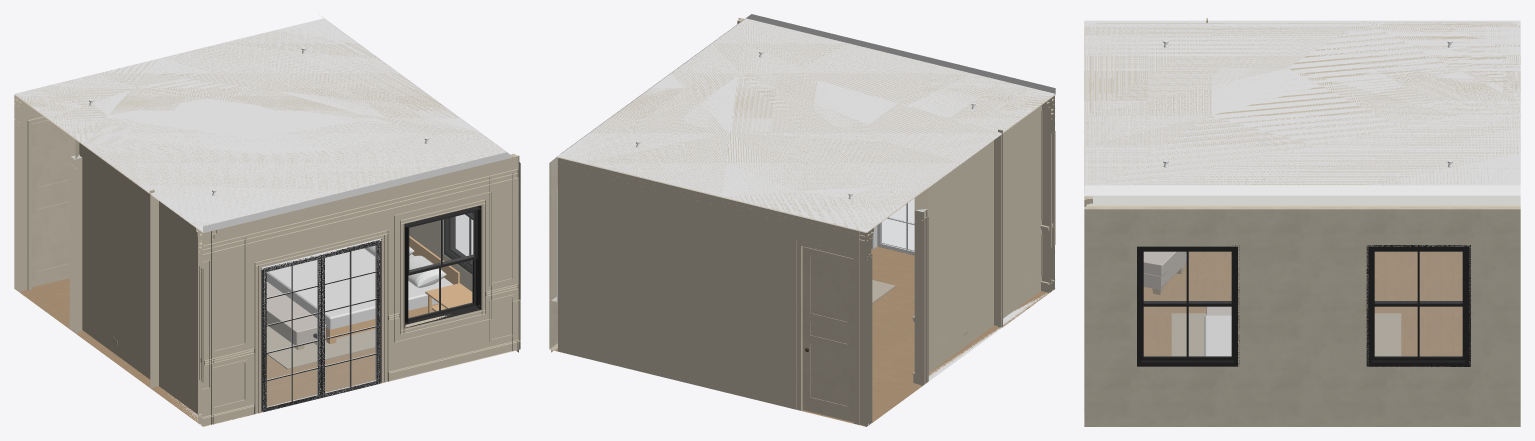
File: primary-bedroom-014505c3209c.glb
The picture shows the model from 3 angles, left to right: view 1: azimuth 30°, elevation 25°; view 2: azimuth 150°, elevation 25°; view 3: azimuth 270°, elevation 25°; orthographic projection. The views are drawn at different scales.
Visible parts, largest first — view 1: primary-bedroom-9d91b47435c6fb33, primary-bedroom-b0ade14315e4f1c3, primary-bedroom-e8793759323e04f0, primary-bedroom-0987656e6ddb83c1, primary-bedroom-fc6585fecfaf7ec3, primary-bedroom-e1735639a83d20d7, primary-bedroom-1e1f2f1a00880bfa, primary-bedroom-c791a0f218fead78, primary-bedroom-b7a870a0f6b43c8c, primary-bedroom-2575515a05775d9e, primary-bedroom-b5339e4b2b15762b, primary-bedroom-21ac2ed1b4475155 (+17 smaller); view 2: primary-bedroom-9d91b47435c6fb33, primary-bedroom-21ac2ed1b4475155, primary-bedroom-e8793759323e04f0, primary-bedroom-fc6585fecfaf7ec3, primary-bedroom-b7a870a0f6b43c8c, primary-bedroom-c791a0f218fead78, primary-bedroom-2575515a05775d9e, primary-bedroom-b0ade14315e4f1c3, primary-bedroom-9ecc0d558be1c706, primary-bedroom-0987656e6ddb83c1, primary-bedroom-780708765654f3c3, primary-bedroom-30f9d475162e2dd8 (+2 smaller); view 3: primary-bedroom-9d91b47435c6fb33, primary-bedroom-adb6f49a6d2cbec3, primary-bedroom-e8793759323e04f0, primary-bedroom-16d9002bc6318568, primary-bedroom-2575515a05775d9e, primary-bedroom-91f952a1d198b4a4, primary-bedroom-f5a37a5545b9d676, primary-bedroom-791abe15be22adf2, primary-bedroom-b0dbeb16b2b245ed, primary-bedroom-a05c251c2321b5d0, primary-bedroom-1e1f2f1a00880bfa, primary-bedroom-30f9d475162e2dd8.
Part boxes in pixels (x1,y1,x2,y2): primary-bedroom-9d91b47435c6fb33: [14, 18, 511, 232]; primary-bedroom-b0ade14315e4f1c3: [198, 155, 519, 426]; primary-bedroom-e8793759323e04f0: [17, 16, 511, 231]; primary-bedroom-0987656e6ddb83c1: [261, 238, 381, 412]; primary-bedroom-fc6585fecfaf7ec3: [75, 140, 158, 387]; primary-bedroom-e1735639a83d20d7: [404, 205, 481, 328]; primary-bedroom-1e1f2f1a00880bfa: [266, 236, 459, 344]; primary-bedroom-c791a0f218fead78: [151, 194, 211, 425]; primary-bedroom-b7a870a0f6b43c8c: [32, 120, 75, 287]; primary-bedroom-2575515a05775d9e: [15, 278, 518, 426]; primary-bedroom-b5339e4b2b15762b: [202, 169, 518, 254]; primary-bedroom-21ac2ed1b4475155: [14, 95, 43, 291]; primary-bedroom-9d91b47435c6fb33: [557, 18, 1055, 232]; primary-bedroom-21ac2ed1b4475155: [558, 157, 871, 426]; primary-bedroom-e8793759323e04f0: [561, 14, 1055, 229]; primary-bedroom-fc6585fecfaf7ec3: [914, 134, 1002, 382]; primary-bedroom-b7a870a0f6b43c8c: [802, 246, 853, 422]; primary-bedroom-c791a0f218fead78: [994, 95, 1054, 327]; primary-bedroom-2575515a05775d9e: [551, 246, 1053, 426]; primary-bedroom-b0ade14315e4f1c3: [738, 17, 1054, 292]; primary-bedroom-9ecc0d558be1c706: [914, 209, 927, 384]; primary-bedroom-0987656e6ddb83c1: [872, 199, 914, 255]; primary-bedroom-780708765654f3c3: [799, 244, 854, 423]; primary-bedroom-30f9d475162e2dd8: [550, 158, 556, 300]; primary-bedroom-9d91b47435c6fb33: [1084, 20, 1520, 195]; primary-bedroom-adb6f49a6d2cbec3: [1084, 207, 1520, 367]; primary-bedroom-e8793759323e04f0: [1084, 21, 1520, 194]; primary-bedroom-16d9002bc6318568: [1086, 367, 1520, 424]; primary-bedroom-2575515a05775d9e: [1084, 251, 1520, 426]; primary-bedroom-91f952a1d198b4a4: [1366, 245, 1470, 366]; primary-bedroom-f5a37a5545b9d676: [1137, 245, 1239, 366]; primary-bedroom-791abe15be22adf2: [1084, 195, 1520, 205]; primary-bedroom-b0dbeb16b2b245ed: [1171, 313, 1401, 356]; primary-bedroom-a05c251c2321b5d0: [1143, 251, 1186, 294]; primary-bedroom-1e1f2f1a00880bfa: [1204, 315, 1231, 356]; primary-bedroom-30f9d475162e2dd8: [1086, 205, 1520, 206].
Size of the model in its own units: 4.97 by 3.04 by 5.11.
29 materials, 5 textured.
